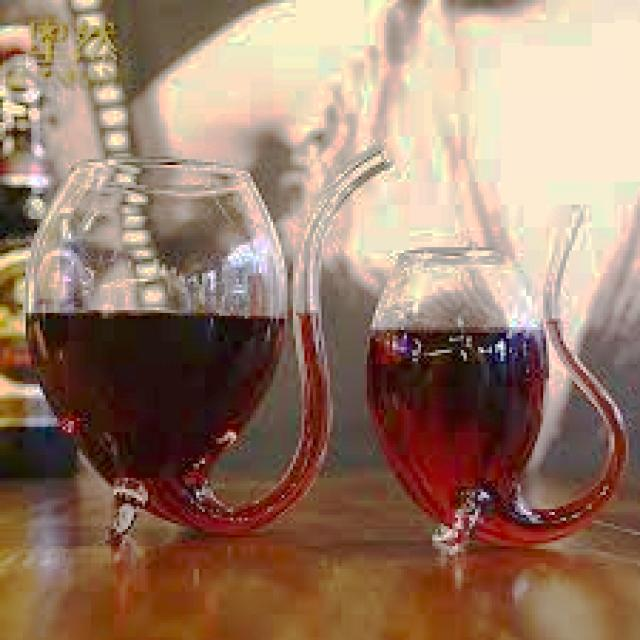drink: (25, 148, 338, 538), (364, 236, 632, 566)
